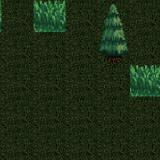Obstacle: (98, 33, 131, 65)
Slow: (34, 0, 66, 32), (130, 65, 160, 96)
